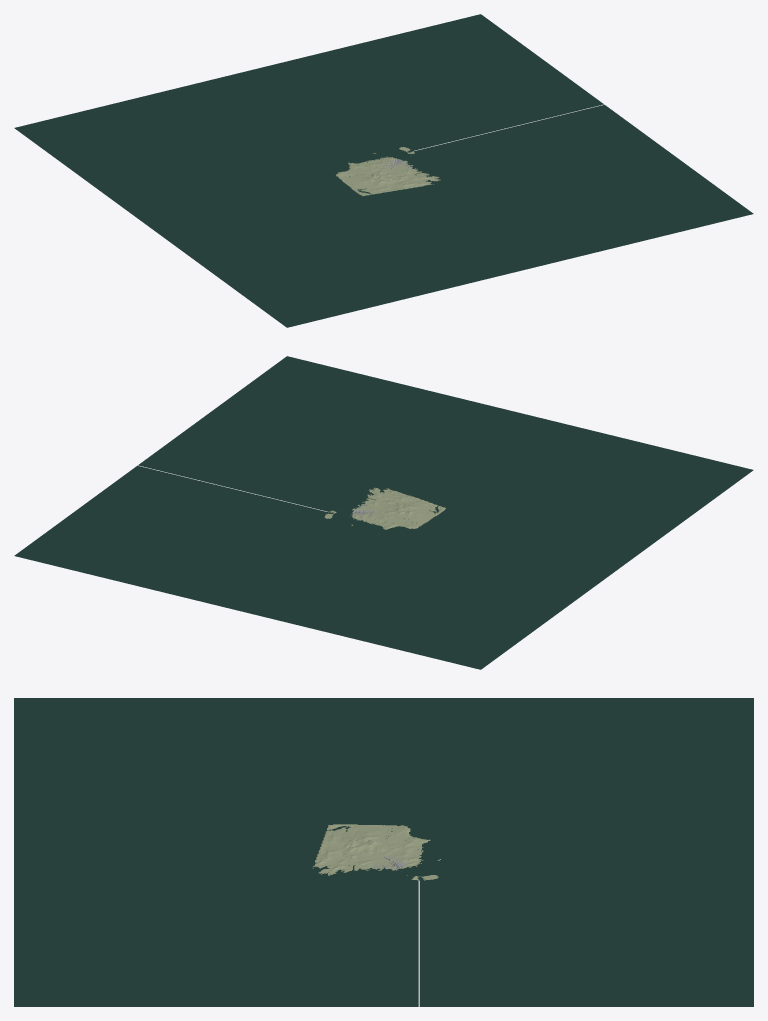
The model's file is horizon.glb.
3 renders of one model, top to bottom at view 1: azimuth 30°, elevation 25°; view 2: azimuth 150°, elevation 25°; view 3: azimuth 270°, elevation 25°, orthographic. The views are drawn at different scales.
Size of the model in its own units: 78592 by 554 by 79616.
